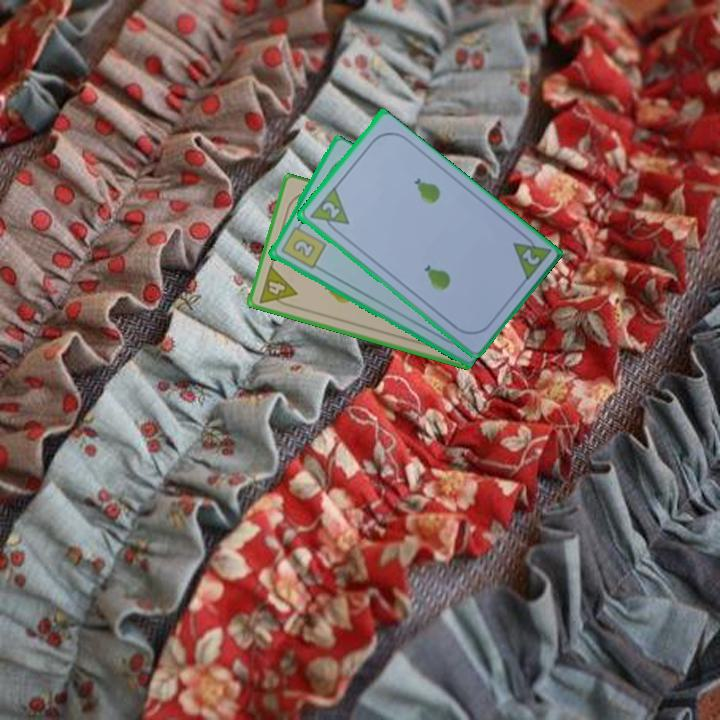2b: (277, 218, 328, 272)
2p: (305, 185, 352, 238), (518, 245, 542, 268)
4p: (256, 262, 300, 311)
